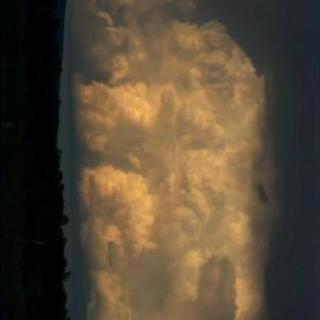Cumulonimbus: (63, 0, 320, 320)
